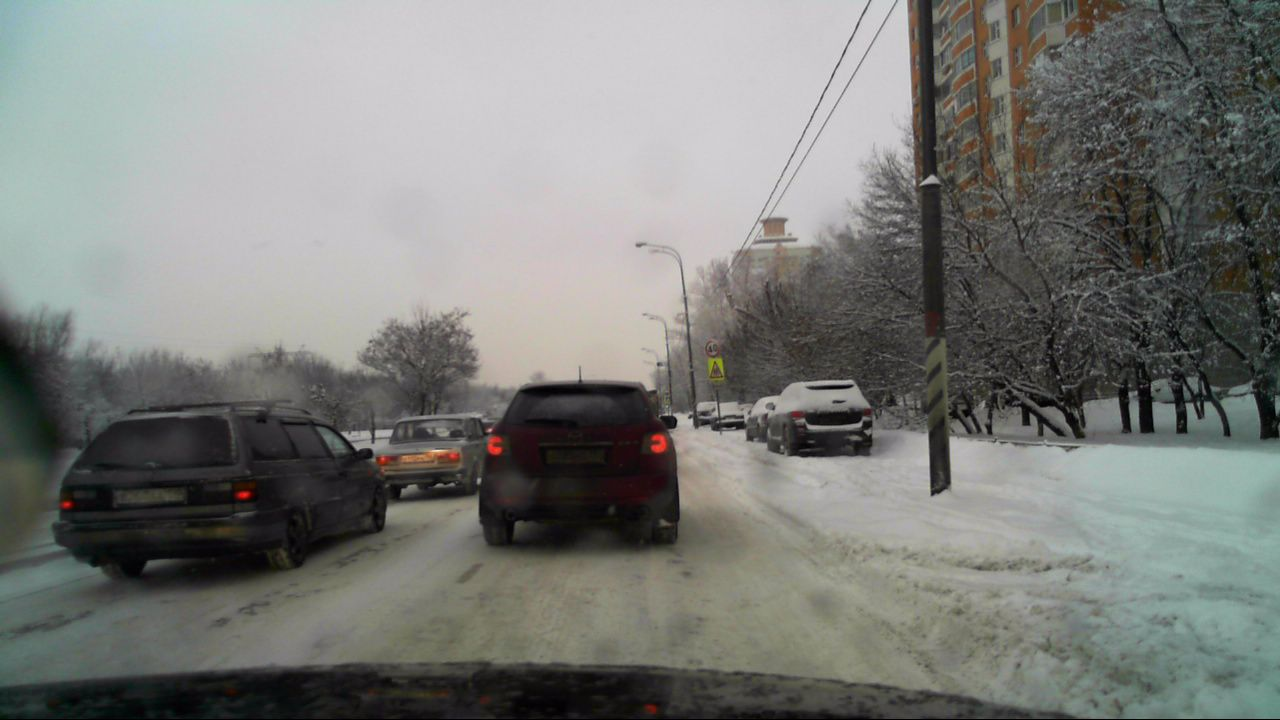speed_warning_40: (702, 337, 721, 357)
